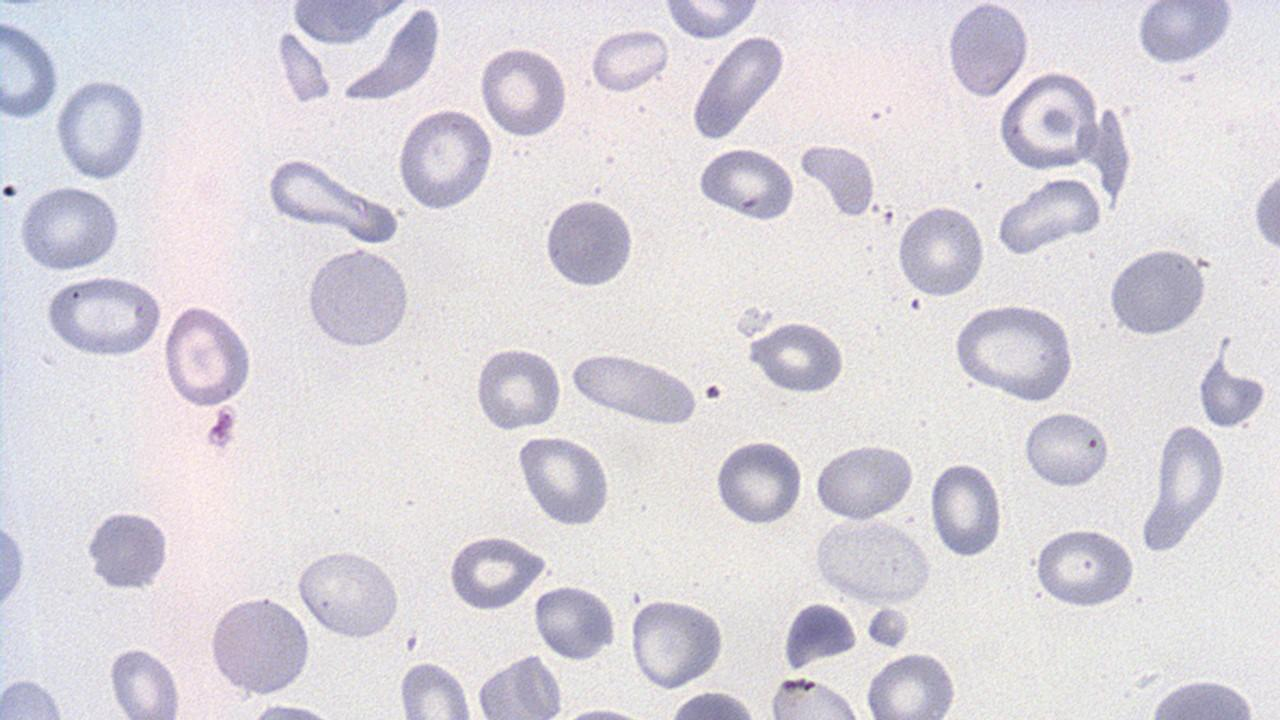Platelets: (1132, 1, 1238, 67), (1195, 353, 1271, 430), (780, 601, 860, 671), (204, 404, 240, 454), (1174, 69, 1202, 86), (907, 297, 921, 311)
RBC: (951, 301, 1078, 402), (302, 244, 414, 352), (206, 589, 315, 697), (262, 155, 400, 239), (395, 105, 497, 212), (812, 517, 932, 606), (995, 71, 1099, 172), (690, 33, 788, 140), (52, 75, 150, 182), (44, 272, 164, 359), (1106, 242, 1210, 342), (161, 300, 255, 410), (564, 350, 700, 425), (294, 548, 404, 640), (627, 593, 726, 690), (17, 182, 124, 271), (542, 195, 640, 290), (1031, 524, 1139, 610), (514, 432, 612, 526), (895, 202, 987, 300), (1150, 420, 1228, 534), (478, 43, 570, 139), (943, 2, 1032, 100), (470, 341, 564, 431), (812, 439, 916, 520), (713, 435, 803, 527), (693, 144, 797, 223), (445, 532, 546, 612), (998, 175, 1106, 249), (748, 318, 848, 395), (928, 457, 1004, 558), (1022, 407, 1110, 490), (1133, 1, 1235, 67), (532, 582, 616, 661), (862, 651, 960, 718), (0, 15, 61, 121), (470, 652, 566, 717), (103, 642, 187, 716), (588, 26, 671, 94), (1140, 676, 1272, 718), (396, 658, 473, 718), (763, 675, 863, 719), (660, 1, 764, 41), (1251, 156, 1279, 261), (2, 675, 68, 718)
WBC: (820, 0, 1280, 710), (0, 0, 314, 718), (264, 0, 448, 109), (303, 244, 416, 353), (205, 588, 315, 698), (814, 516, 932, 606), (1103, 242, 1211, 338), (542, 193, 638, 291), (80, 504, 176, 594), (276, 0, 434, 49), (1131, 1, 1239, 68), (472, 654, 568, 719), (1139, 675, 1269, 718), (2, 504, 27, 634)
